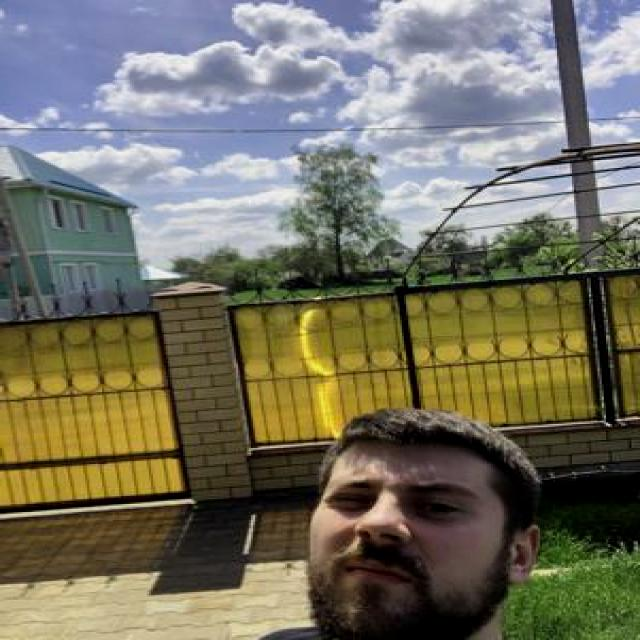face_nomask: (312, 461, 500, 638)
head_nohelmet: (340, 386, 500, 468)
person: (244, 398, 564, 640)
